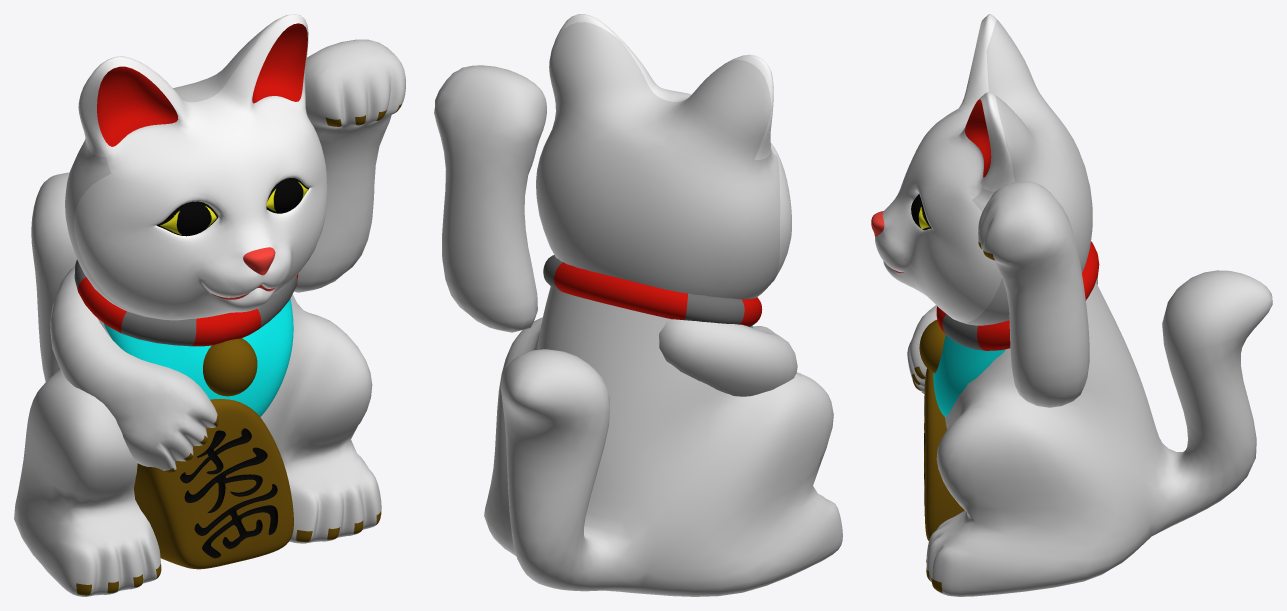
Rendered from cat with hand source rev fbx.FBX.
The picture shows the model from 3 angles, left to right: view 1: azimuth 30°, elevation 25°; view 2: azimuth 150°, elevation 25°; view 3: azimuth 270°, elevation 25°; orthographic projection. The views are drawn at different scales.
Visible parts, largest first — view 1: body, Box002, Box003, arm, Sphere001; view 2: body, Box002, arm; view 3: body, Box002, arm, Box003, Sphere001.
Part boxes in pixels (box(x1,y1,x2,y2)): body: box(14, 172, 381, 596); Box002: box(65, 14, 327, 320); Box003: box(134, 399, 293, 569); arm: box(294, 39, 405, 292); Sphere001: box(203, 338, 257, 396); body: box(484, 255, 842, 596); Box002: box(536, 14, 791, 299); arm: box(434, 65, 546, 332); body: box(907, 241, 1272, 596); Box002: box(871, 14, 1092, 325); arm: box(978, 181, 1089, 407); Box003: box(924, 368, 964, 540); Sphere001: box(919, 320, 945, 373).
Size of the model in its own units: 81.2 by 81.91 by 108.
Materials: 9 (1 with a texture image).
